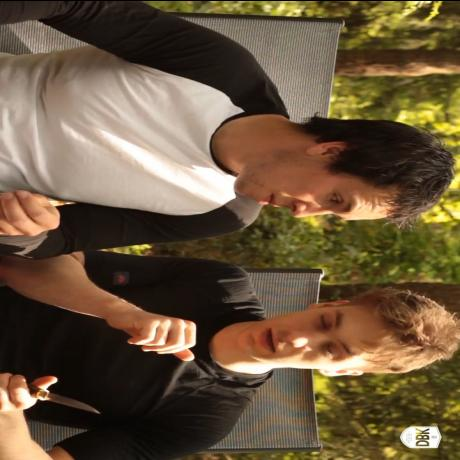1: (0, 0, 451, 262), (0, 247, 460, 460)
weapon: (34, 391, 112, 416)
